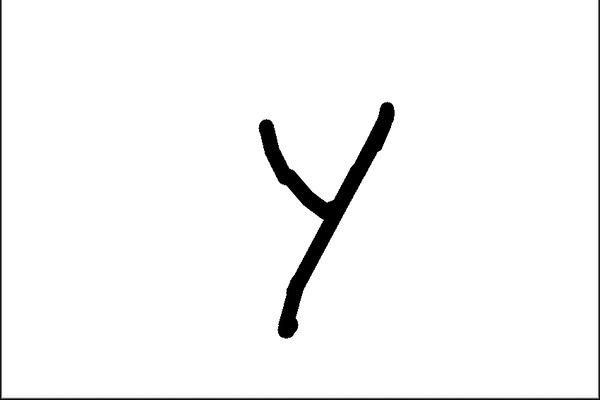Y: (250, 96, 405, 348)
